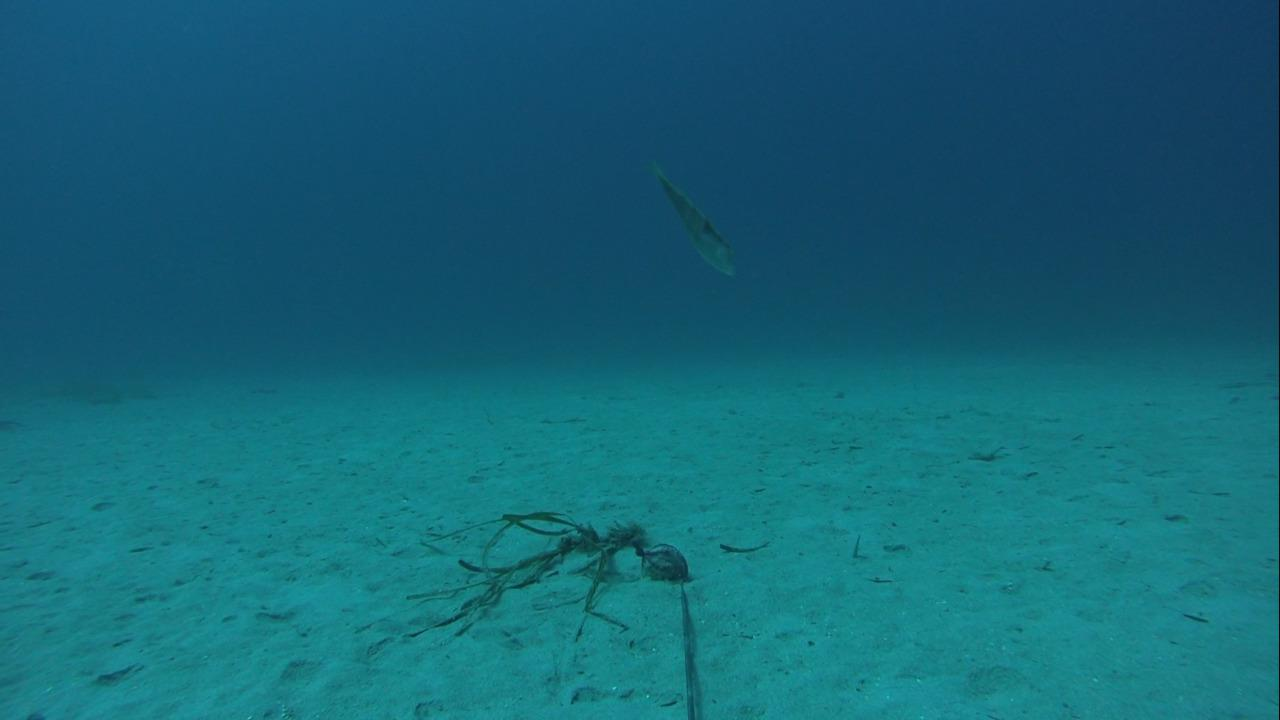raor: (639, 155, 746, 284)
